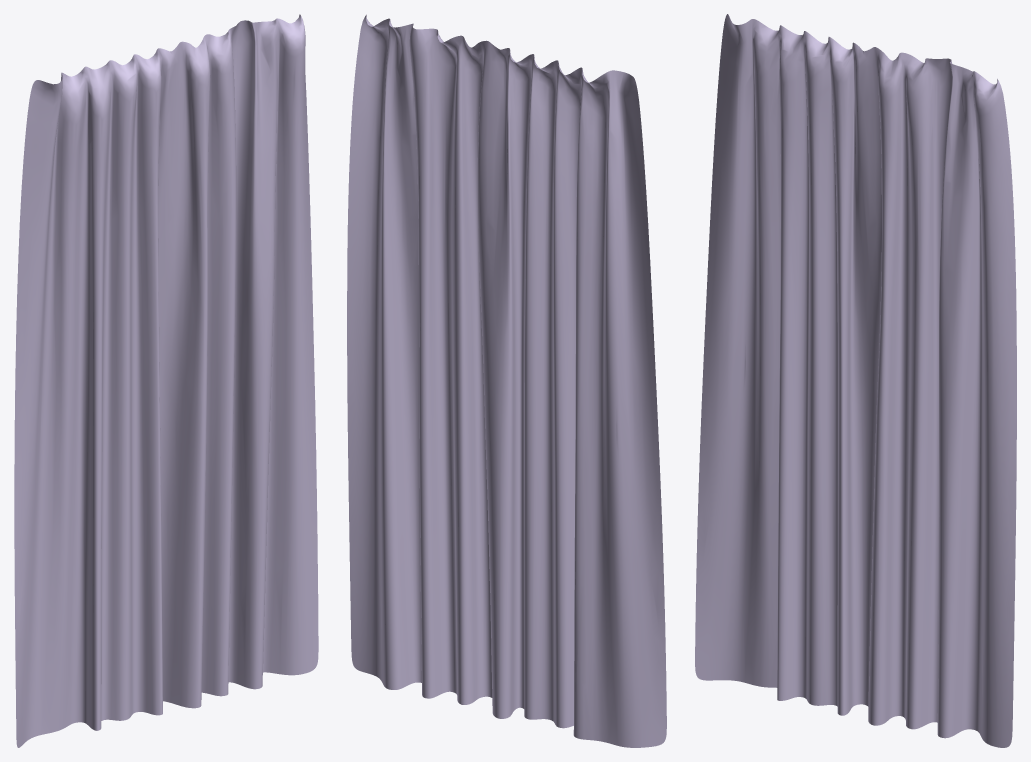
Rendered from zaslona2.fbx.
3 views of the same model, side by side, from view 1: azimuth 30°, elevation 25°; view 2: azimuth 150°, elevation 25°; view 3: azimuth 330°, elevation 25° (orthographic).
Visible parts, largest first — view 1: Plane; view 2: Plane; view 3: Plane.
Boxes of the visible parts, x1,y1,x2,y2 form: Plane: (14,14,318,747); Plane: (347,14,666,747); Plane: (695,14,1016,747).
Bounding box in the file's own units: 921 × 1898 × 101.
